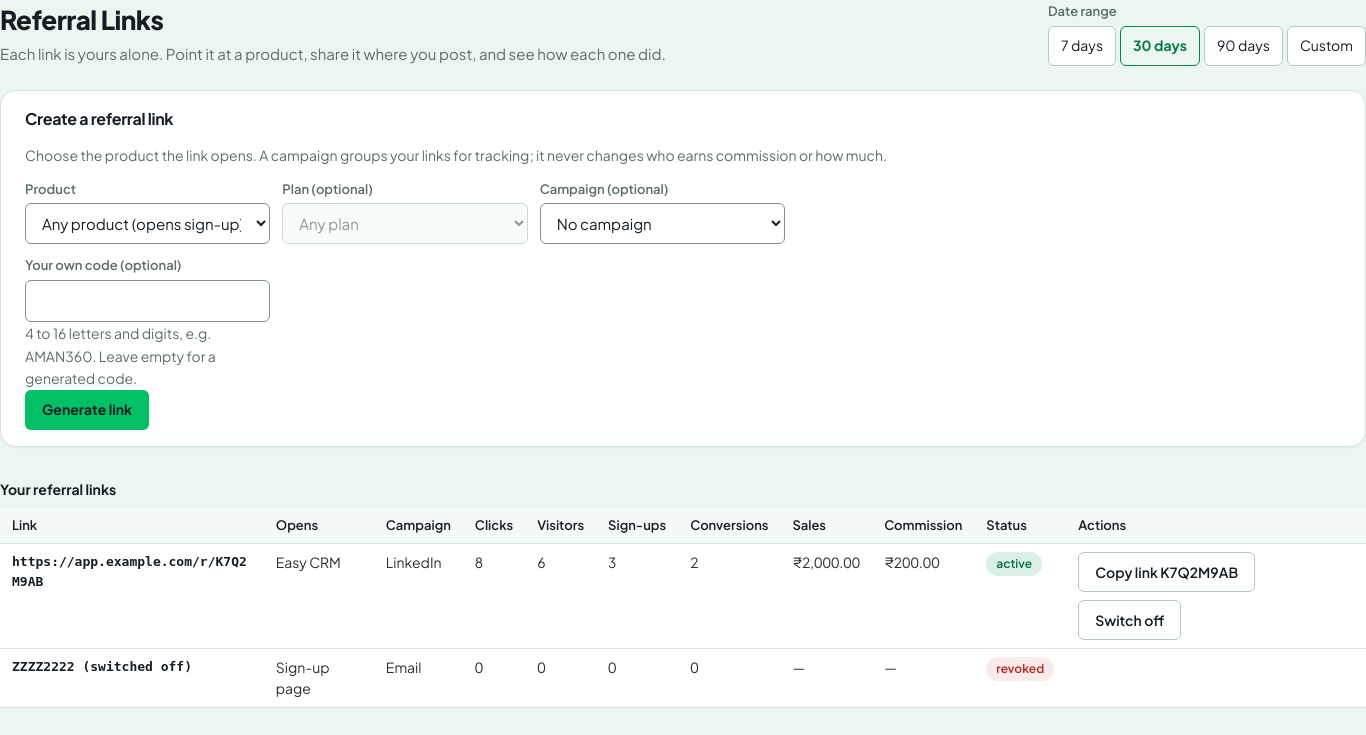
Scenario: referral links › switches a link off through the server and says earlier referrals still count
Step 1. Click the button "Switch off" → click(1130, 620), box x1=1078 y1=600 x2=1181 y2=640
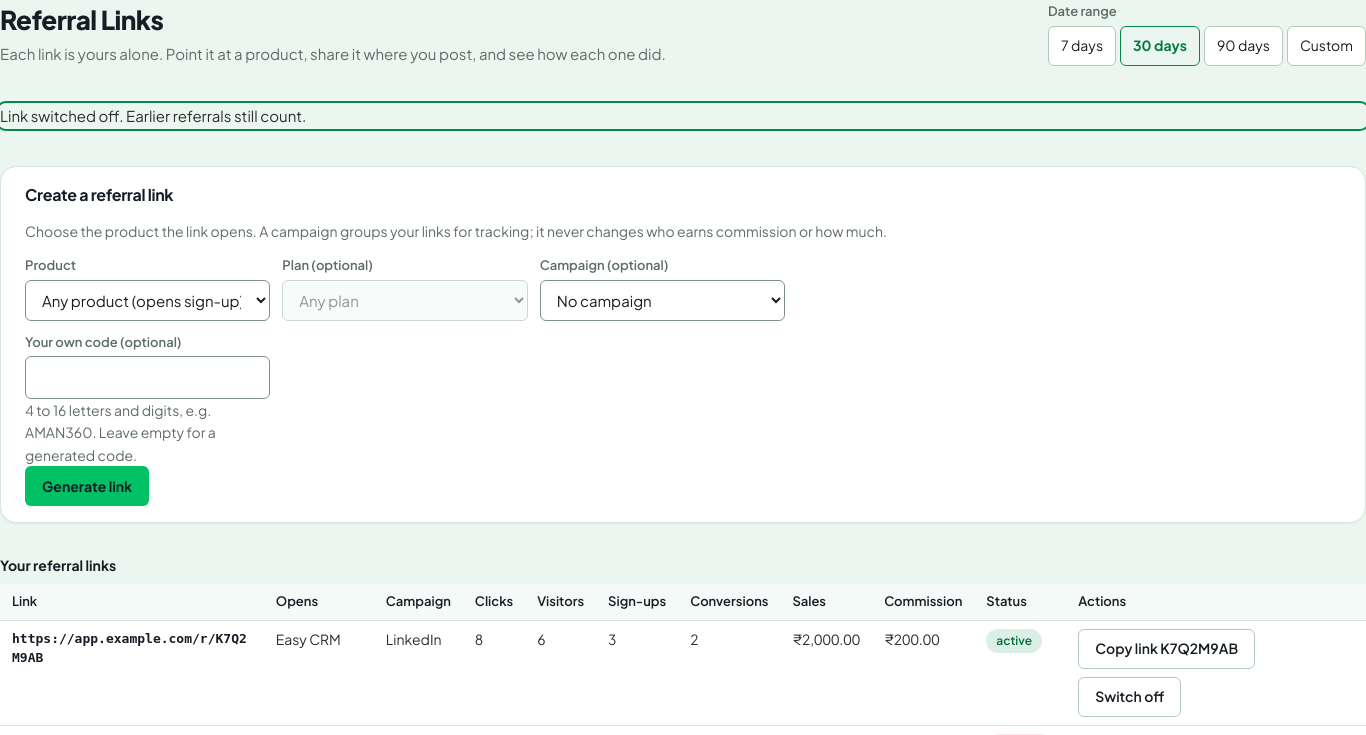
Result: the text "Link switched off. Earlier referrals still count." is shown at x1=0 y1=106 x2=306 y2=124
